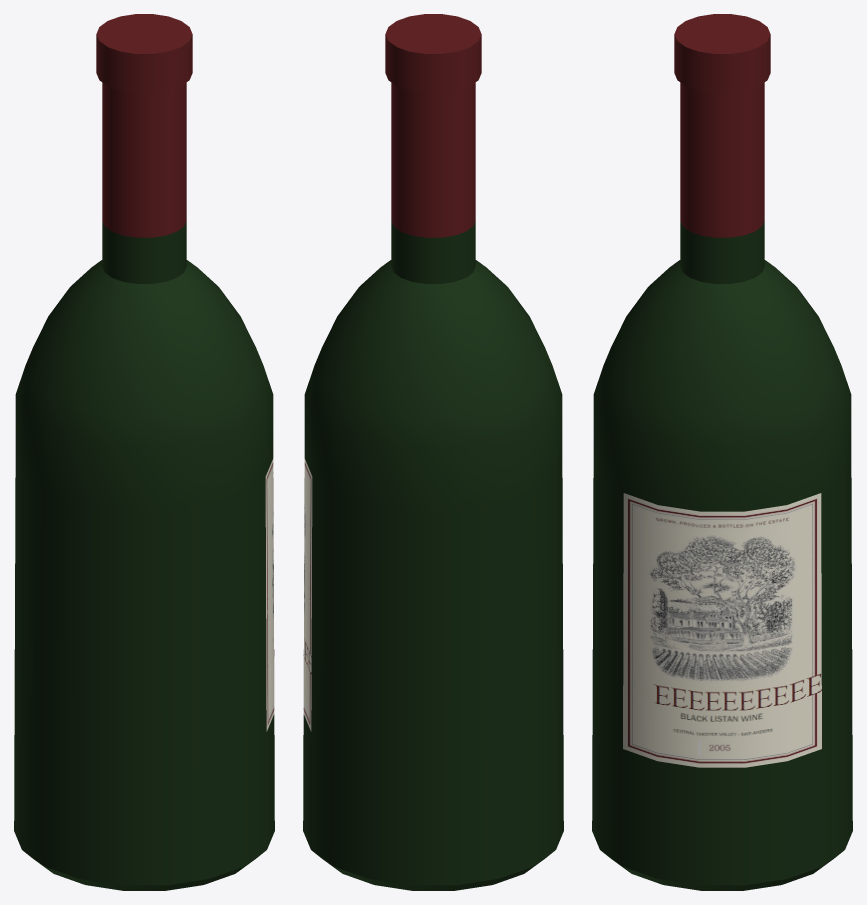
The model's file is bottle.fbx.
3 renders of one model, left to right at view 1: azimuth 30°, elevation 25°; view 2: azimuth 150°, elevation 25°; view 3: azimuth 270°, elevation 25°, orthographic.
Parts seen in each view (by area): view 1: Cylinder; view 2: Cylinder; view 3: Cylinder.
Boxes of the visible parts, x1,y1,x2,y2 form: Cylinder: [14, 14, 274, 890]; Cylinder: [303, 14, 563, 890]; Cylinder: [592, 14, 852, 890].
Bounding box in the file's own units: 197 × 683 × 200.
